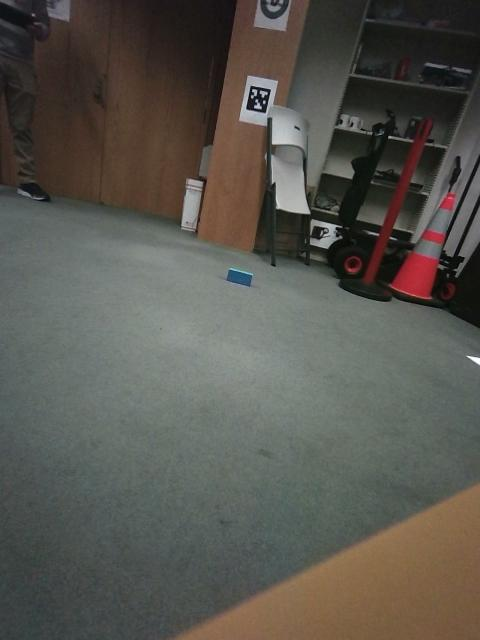block: (41, 244, 80, 272)
